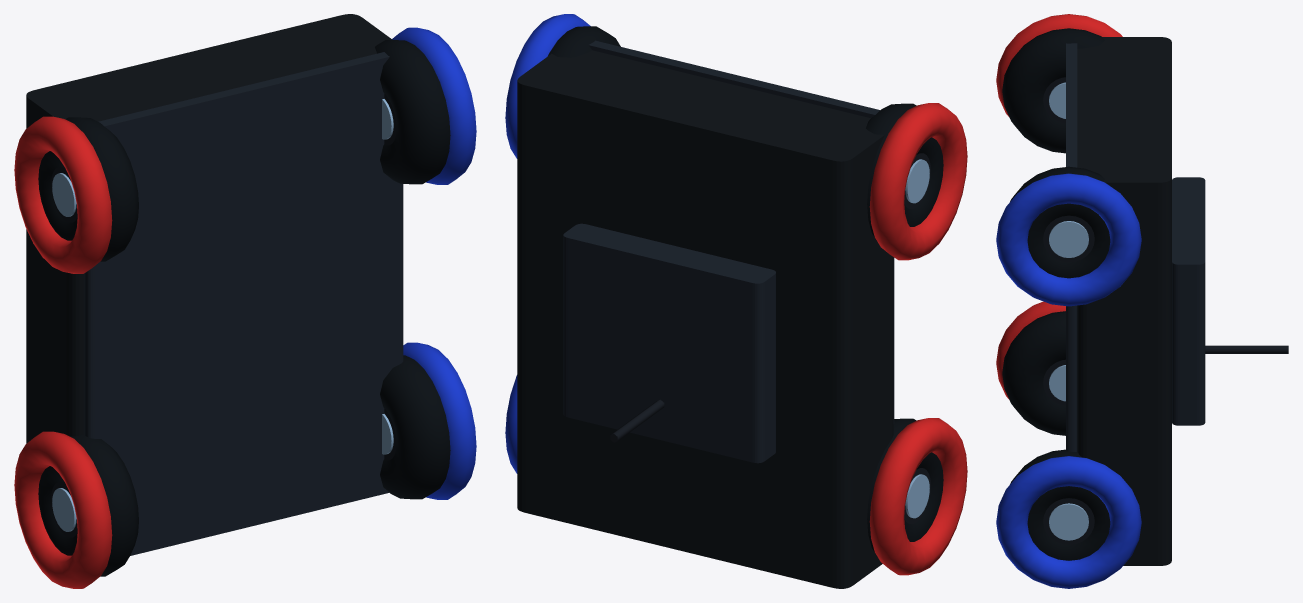
File: rover_4.obj
The picture shows the model from 3 angles, left to right: view 1: azimuth 30°, elevation 25°; view 2: azimuth 150°, elevation 25°; view 3: azimuth 270°, elevation 25°; orthographic projection. The views are drawn at different scales.
Parts seen in each view (by area): view 1: body_mid_1, body_dark_0, leg_dark_3, red_metal_6, blue_metal_5, motor_silver_4, motor_dark_2; view 2: body_dark_0, body_mid_1, red_metal_6, leg_dark_3, blue_metal_5, motor_silver_4, motor_dark_2; view 3: body_dark_0, blue_metal_5, leg_dark_3, body_mid_1, motor_silver_4, red_metal_6, motor_dark_2.
Part boxes in pixels (x1,y1,x2,y2): body_mid_1: (84, 52, 403, 555); body_dark_0: (26, 14, 392, 443); leg_dark_3: (38, 40, 450, 576); red_metal_6: (14, 116, 112, 588); blue_metal_5: (392, 27, 476, 499); motor_silver_4: (52, 99, 393, 531); motor_dark_2: (51, 93, 396, 537); body_dark_0: (517, 50, 893, 588); body_mid_1: (563, 40, 894, 463); red_metal_6: (869, 103, 967, 575); leg_dark_3: (548, 26, 943, 557); blue_metal_5: (505, 14, 590, 473); motor_silver_4: (905, 159, 929, 518); motor_dark_2: (610, 153, 930, 523); body_dark_0: (1077, 37, 1171, 565); blue_metal_5: (996, 173, 1141, 588); leg_dark_3: (1002, 28, 1110, 560); body_mid_1: (1066, 43, 1205, 451); motor_silver_4: (1049, 82, 1088, 540); red_metal_6: (996, 14, 1122, 398); motor_dark_2: (1043, 77, 1288, 544).
Size of the model in its own units: 0.3678 by 0.4108 by 0.2629.
